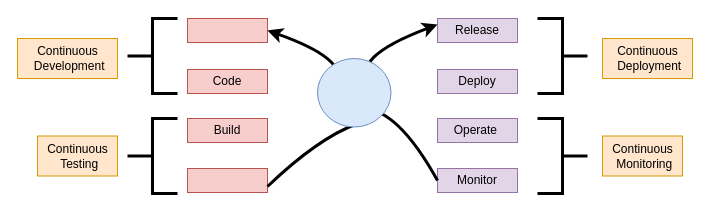
Some shapes in this 710 by 212 pixel diagram are drawn without their labels. Here are the shapes that lost their labels. From the top down, the centre of each, then its label:
point 227,30: Plan
point 353,92: Continuous Integration
point 227,180: Test
